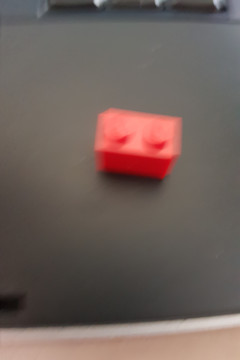1x2 red: (94, 107, 183, 181)
